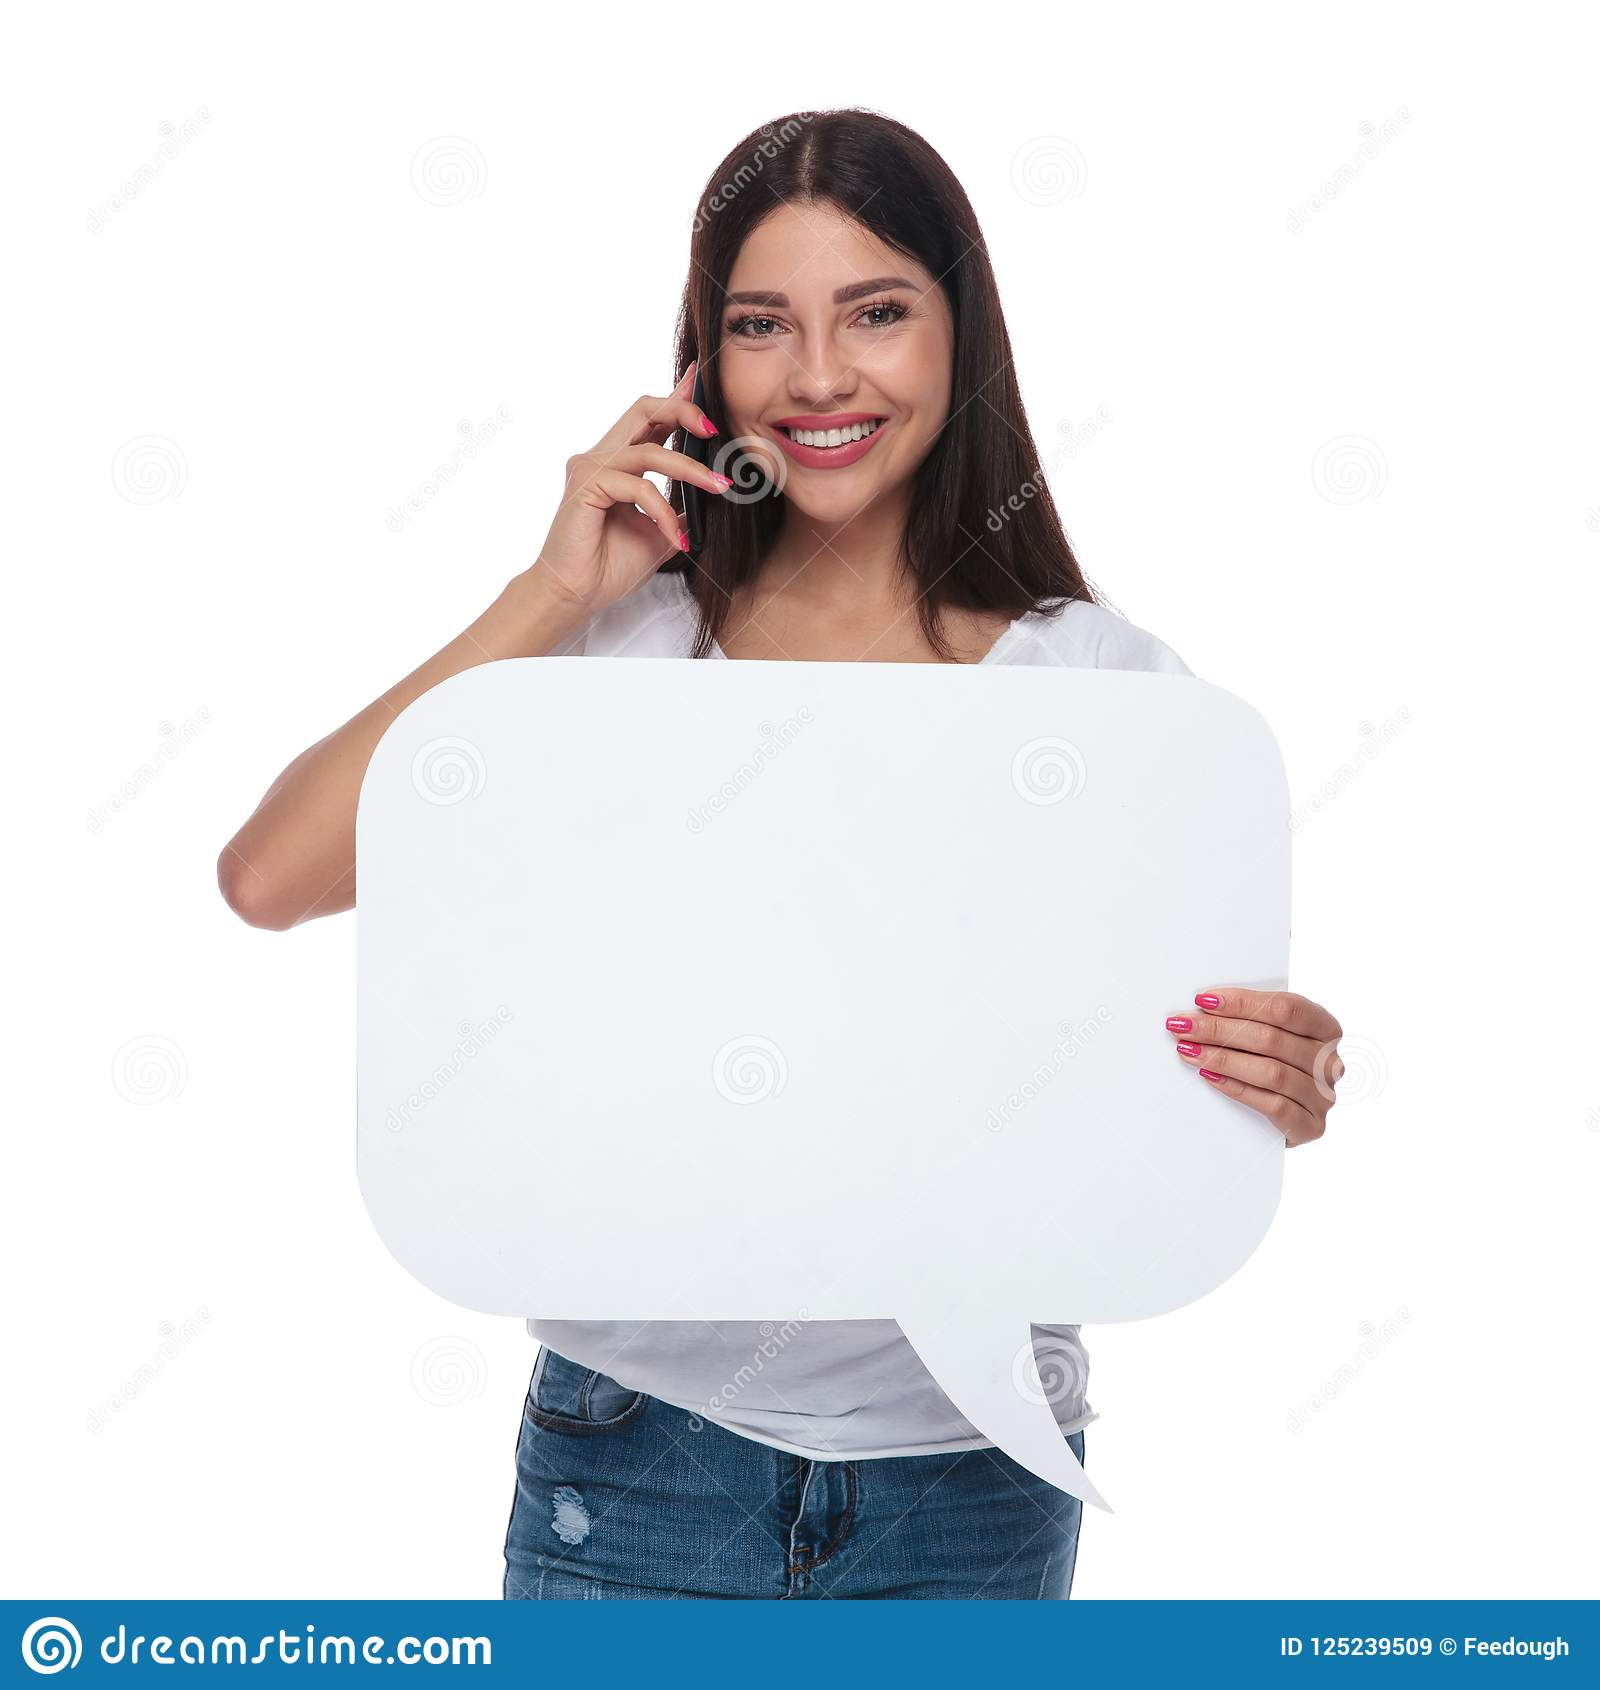phone: (683, 335, 708, 553)
talk: (526, 268, 926, 622)
